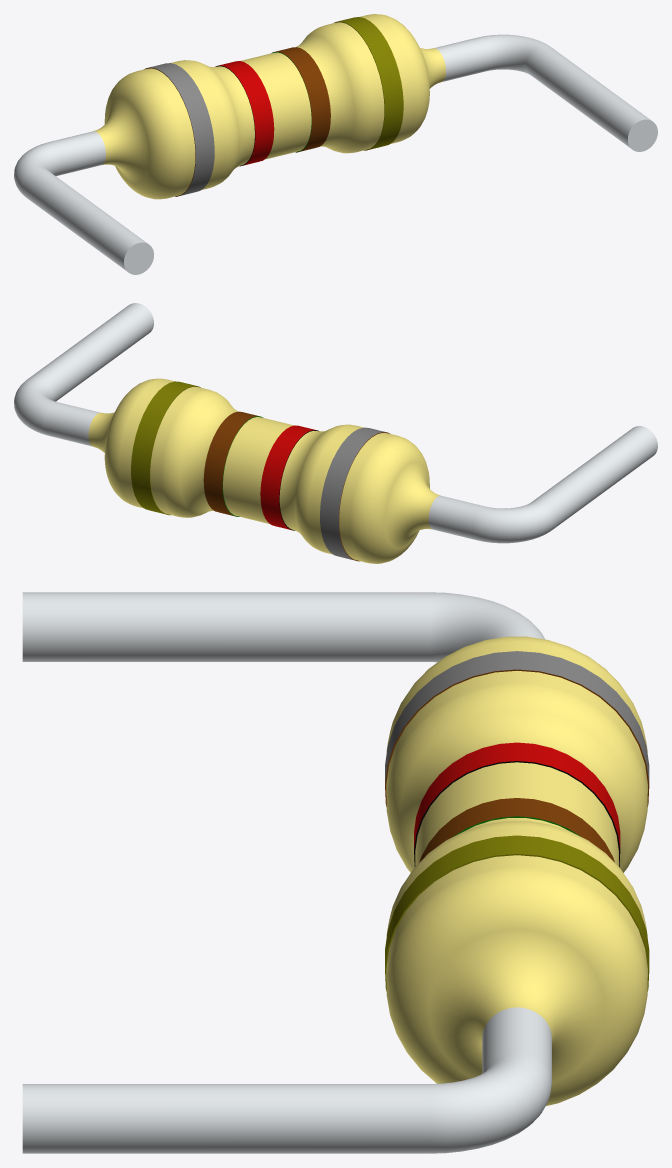
The model's file is resistance.fbx.
3 views of the same model, one above another, from view 1: azimuth 30°, elevation 25°; view 2: azimuth 150°, elevation 25°; view 3: azimuth 270°, elevation 25° (orthographic). The views are drawn at different scales.
Visible parts, largest first — view 1: Solidpart (editavel); view 2: Solidpart (editavel); view 3: Solidpart (editavel).
Boxes of the visible parts, bbox=[...] form: Solidpart (editavel): bbox=[14, 14, 657, 274]; Solidpart (editavel): bbox=[14, 303, 657, 563]; Solidpart (editavel): bbox=[22, 592, 649, 1153].
Bounding box in the file's own units: 10.77 × 5.47 × 2.31.
